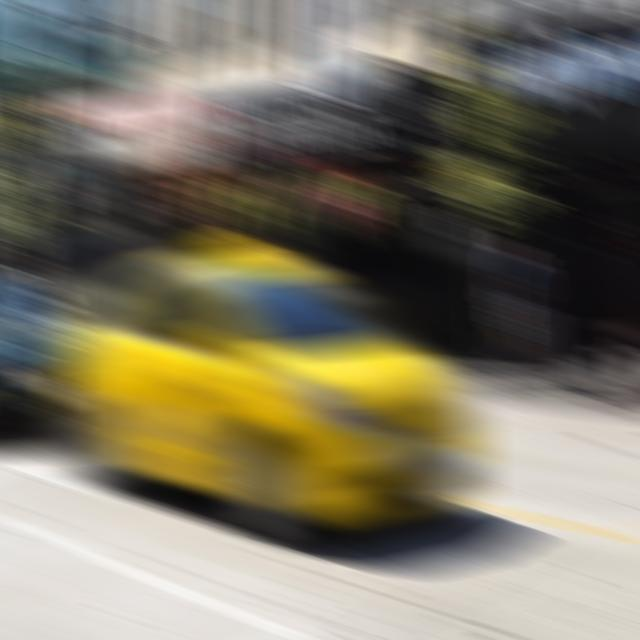Taxi: (53, 237, 484, 550)
